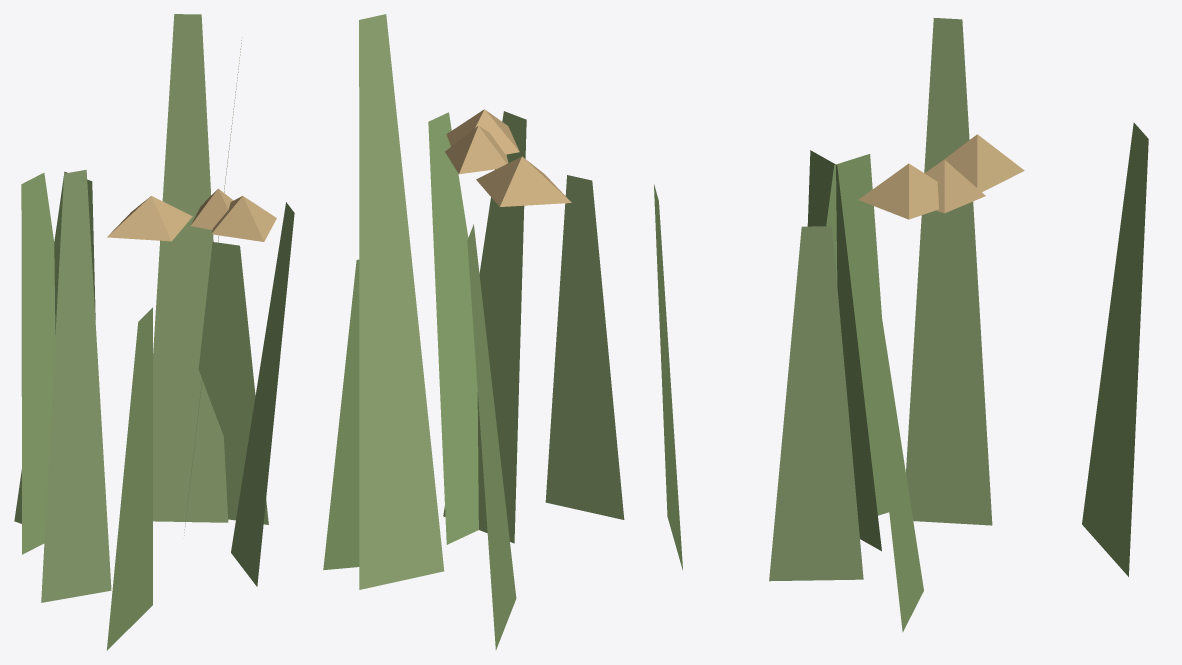
File: crop.temp.rice__bloom.glb
3 renders of one model, left to right at view 1: azimuth 30°, elevation 25°; view 2: azimuth 150°, elevation 25°; view 3: azimuth 270°, elevation 25°, orthographic. The views are drawn at different scales.
Visible parts, largest first — view 1: crop.temp.rice__bloom; view 2: crop.temp.rice__bloom; view 3: crop.temp.rice__bloom.
Part boxes in pixels (box(x1,y1,x2,y2)): crop.temp.rice__bloom: box(14, 14, 294, 650); crop.temp.rice__bloom: box(323, 14, 682, 649); crop.temp.rice__bloom: box(769, 18, 1148, 632).
Size of the model in its own units: 0.4922 by 0.8973 by 0.5649.
